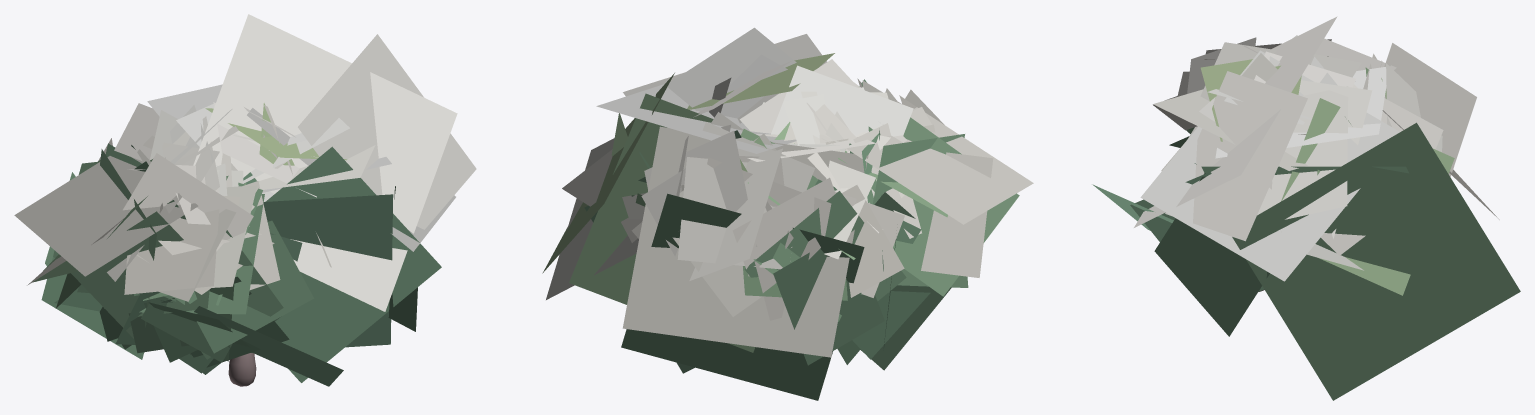
Rendered from hawthorn_v0.glb.
3 views of the same model, side by side, from view 1: azimuth 30°, elevation 25°; view 2: azimuth 150°, elevation 25°; view 3: azimuth 270°, elevation 25° (orthographic). The views are drawn at different scales.
Visible parts, largest first — view 1: far, near; view 2: near, far; view 3: far, near.
Part boxes in pixels (box(x1,y1,x2,y2)): far: box(147, 14, 476, 386); near: box(14, 102, 349, 386); near: box(562, 27, 1033, 370); far: box(542, 34, 868, 400); far: box(1092, 16, 1520, 400); near: box(1153, 35, 1476, 291).
Bounding box in the file's own units: 9.45 × 7.81 × 9.9.
